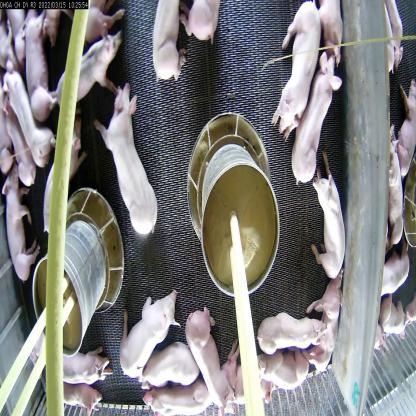Pig: (106, 81, 160, 236), (184, 307, 249, 415), (116, 287, 180, 382), (309, 155, 357, 280), (297, 46, 338, 189), (0, 64, 59, 162), (276, 4, 318, 132), (54, 41, 132, 104), (43, 338, 113, 401), (1, 174, 34, 287), (257, 307, 326, 360), (222, 358, 284, 411), (252, 351, 316, 401), (148, 381, 225, 415), (150, 0, 181, 84), (142, 336, 194, 380)
